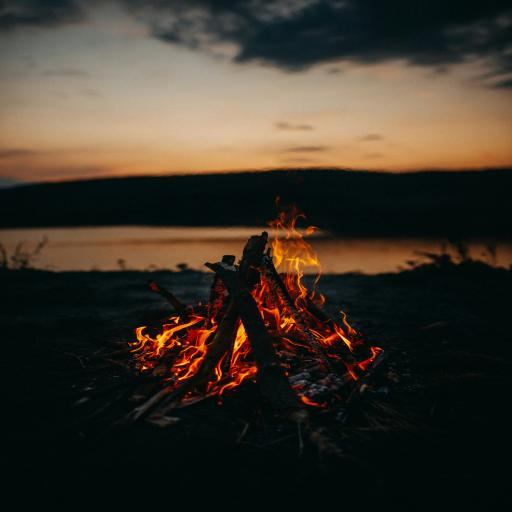campfire: (108, 200, 392, 428)
